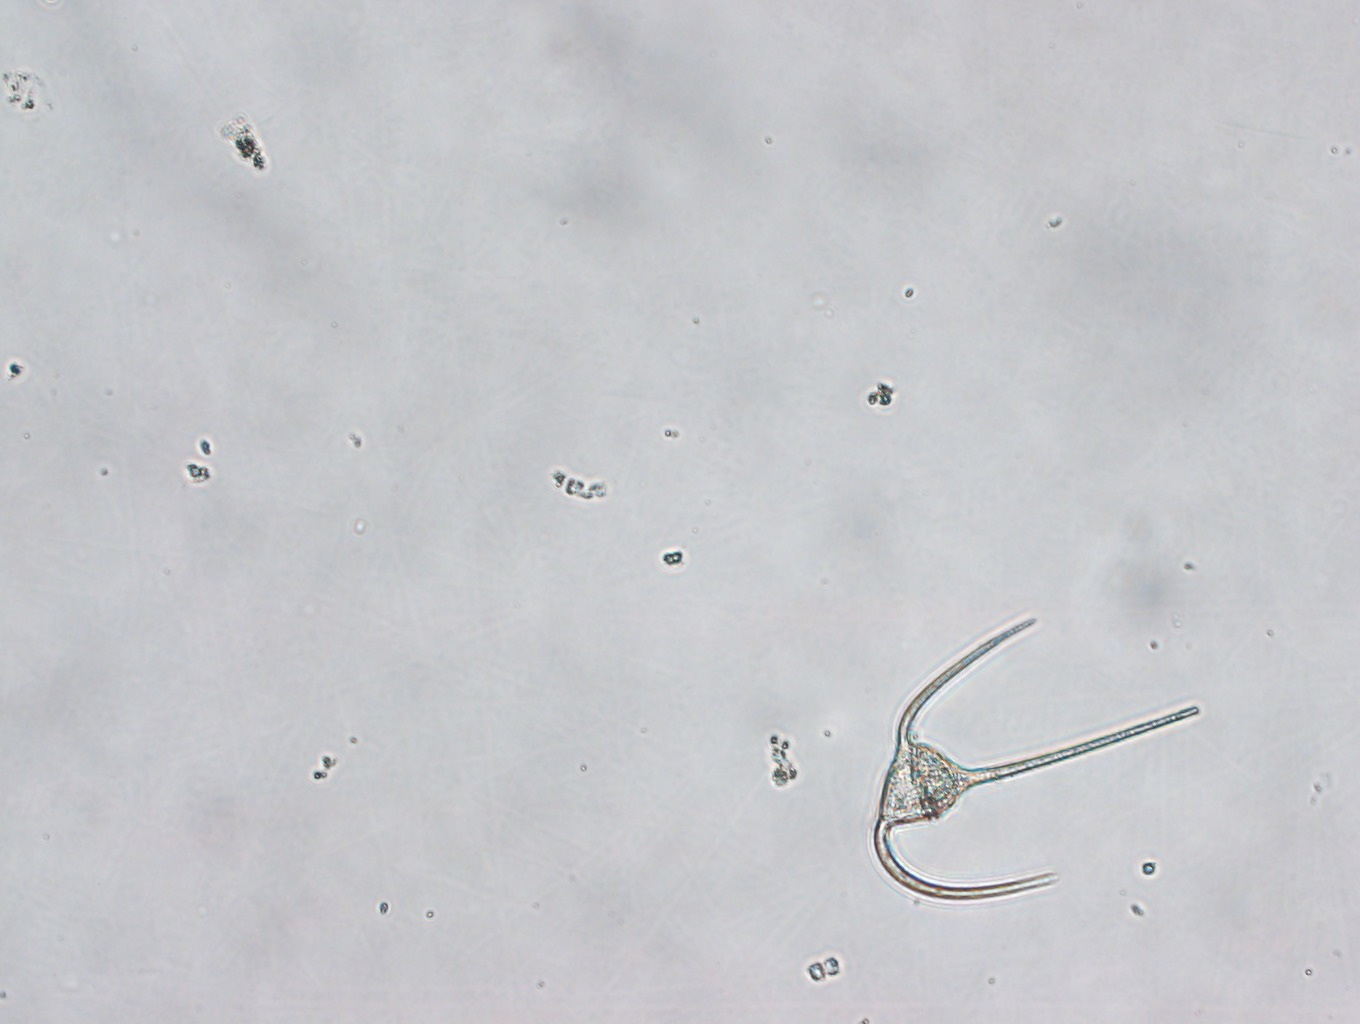ceratium trichoceros: (873, 617, 1201, 904)
